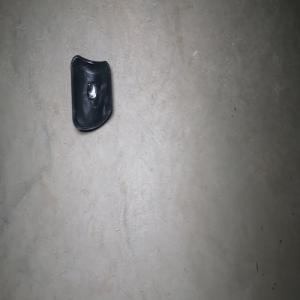LuggagePart: (69, 53, 113, 133)
